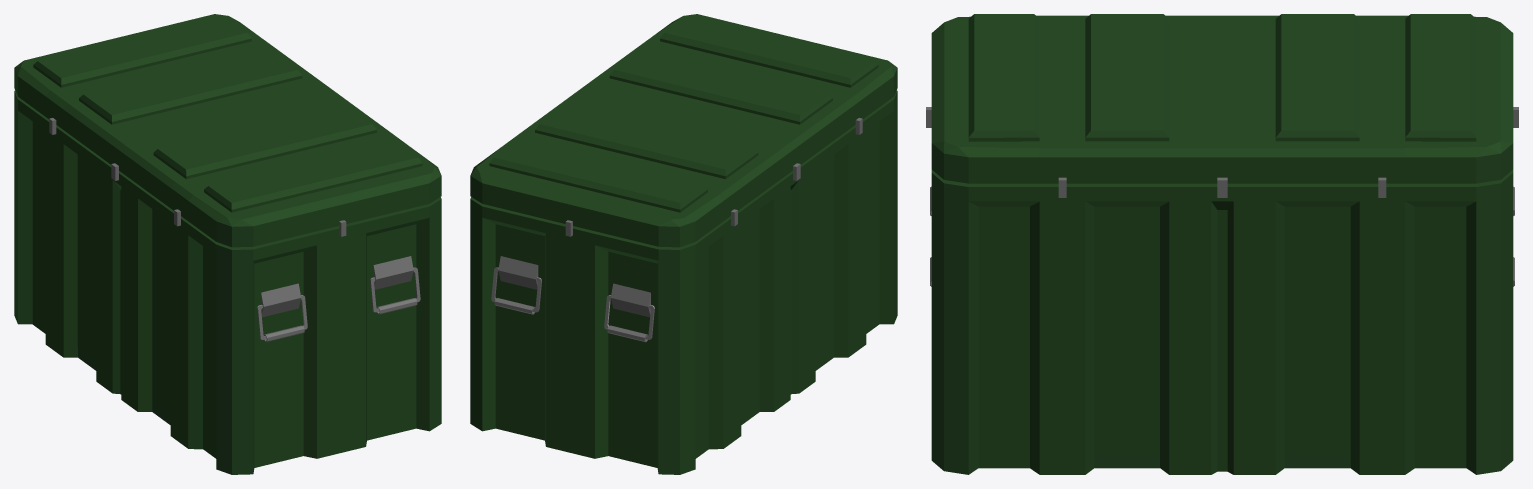
File: Crate.fbx
3 renders of one model, left to right at view 1: azimuth 30°, elevation 25°; view 2: azimuth 150°, elevation 25°; view 3: azimuth 270°, elevation 25°, orthographic. The views are drawn at different scales.
Visible parts, largest first — view 1: Box, Lid, Cube, Clasps; view 2: Box, Lid, Cube, Clasps; view 3: Box, Lid, Clasps.
Part boxes in pixels (x1,y1,x2,y2): Box: (14, 90, 441, 474); Lid: (14, 14, 441, 247); Cube: (257, 256, 420, 342); Clasps: (49, 118, 346, 236); Box: (470, 90, 897, 474); Lid: (470, 14, 897, 247); Cube: (491, 256, 654, 342); Clasps: (565, 118, 862, 236); Box: (931, 169, 1513, 474); Lid: (931, 14, 1513, 183); Clasps: (926, 107, 1518, 197).
Bounding box in the file's own units: 214 × 232 × 373.
